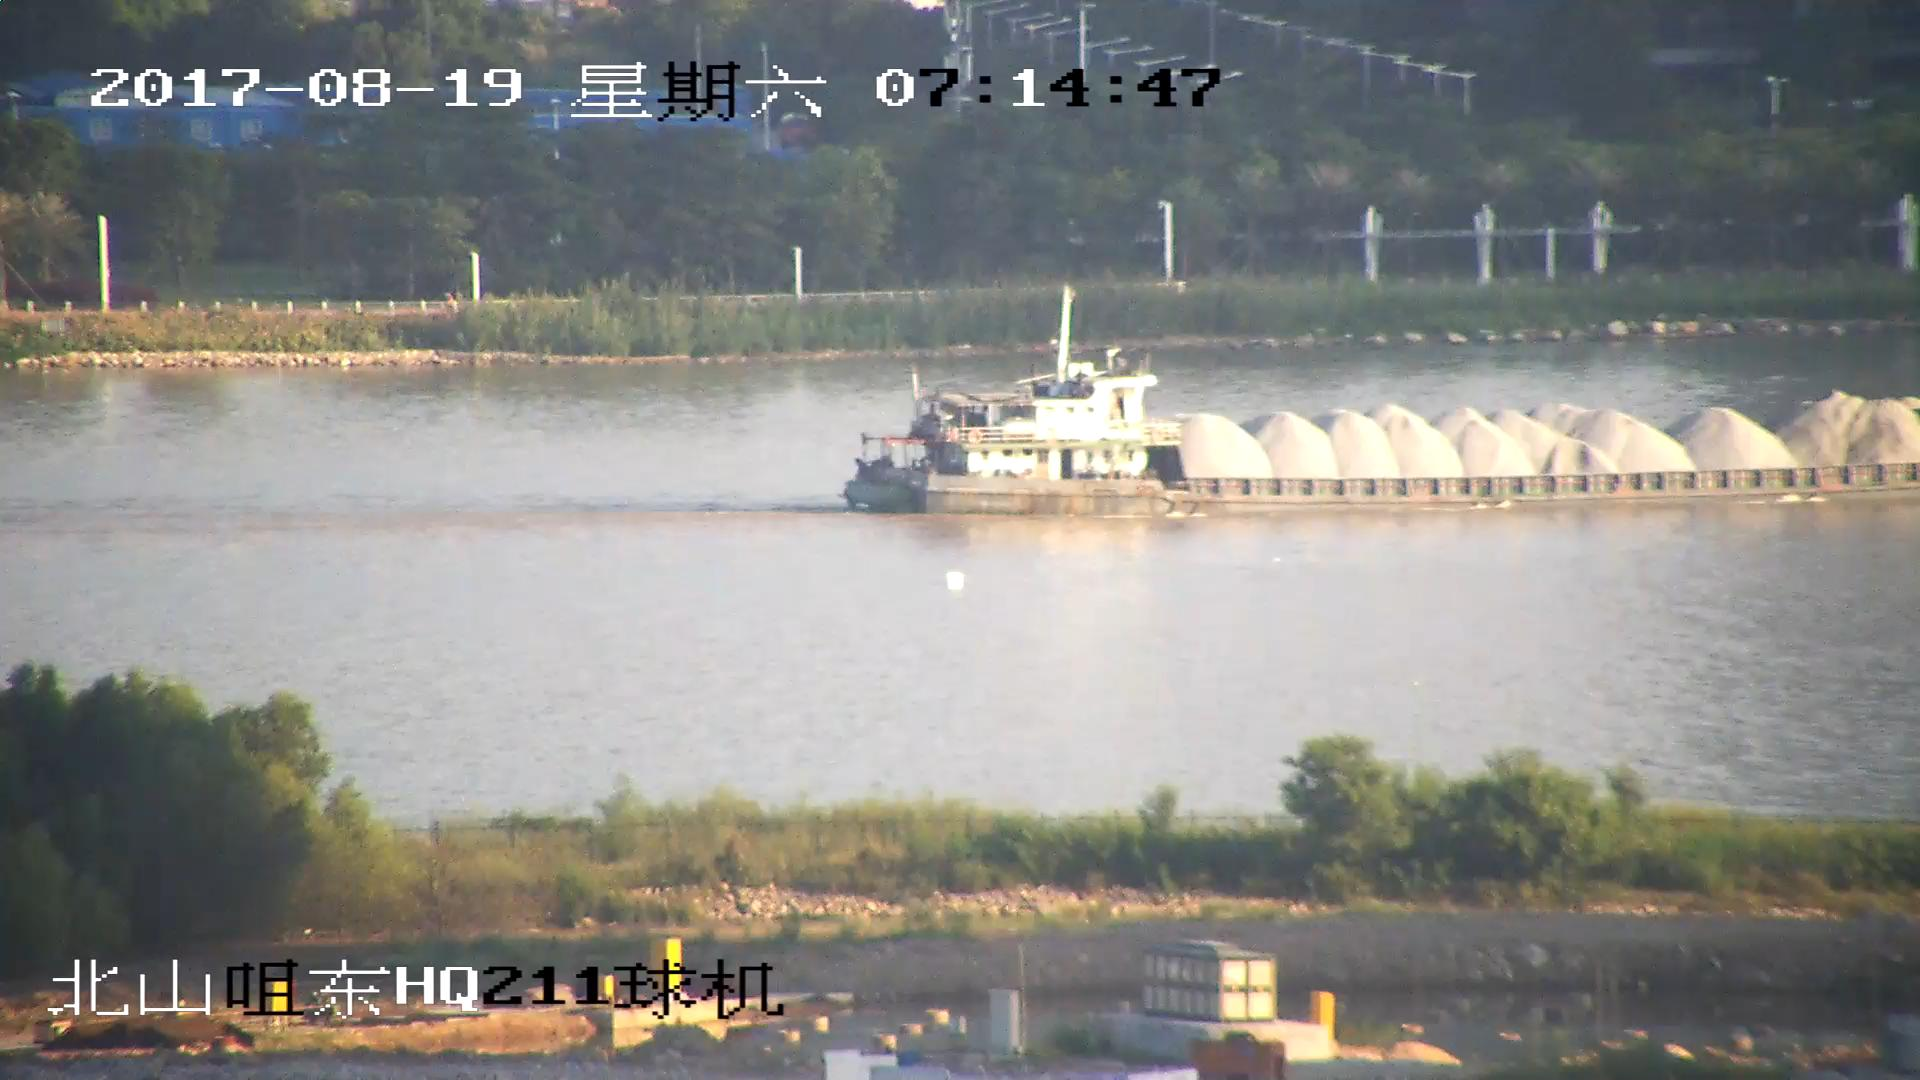ore carrier: (842, 286, 1920, 517)
